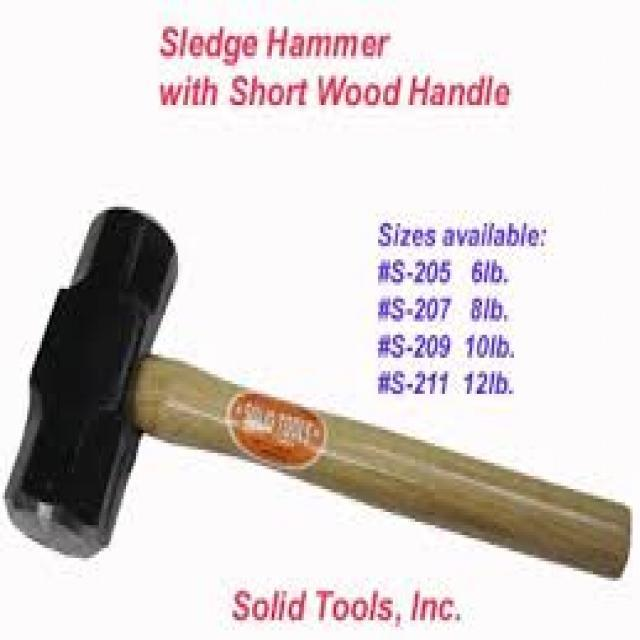hammer: (0, 193, 633, 598)
